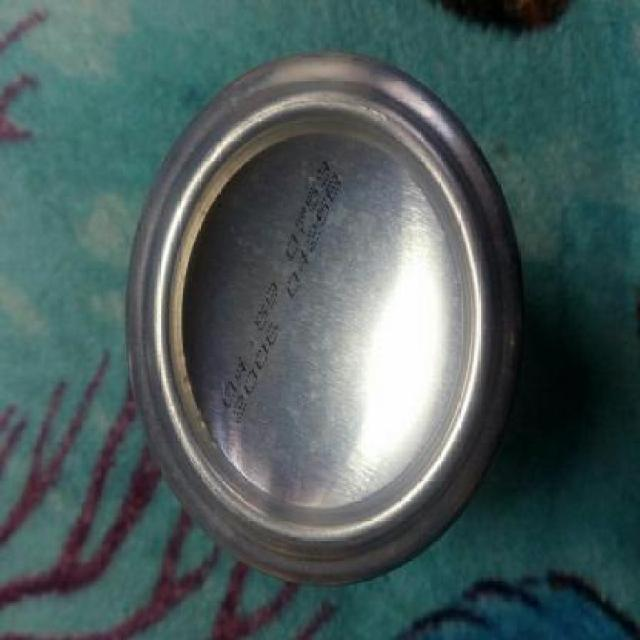Metal: (122, 47, 526, 586)
